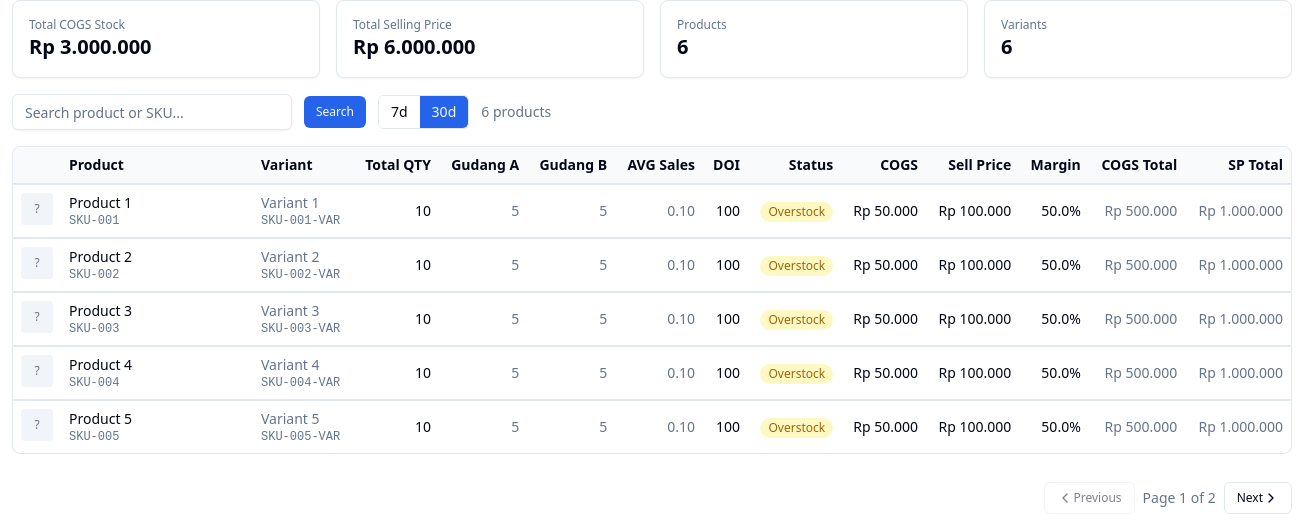
Test case: paginates to page 2 and shows remaining products
Click the button "Next".
click(1258, 498)  # box [1224,482,1292,514]
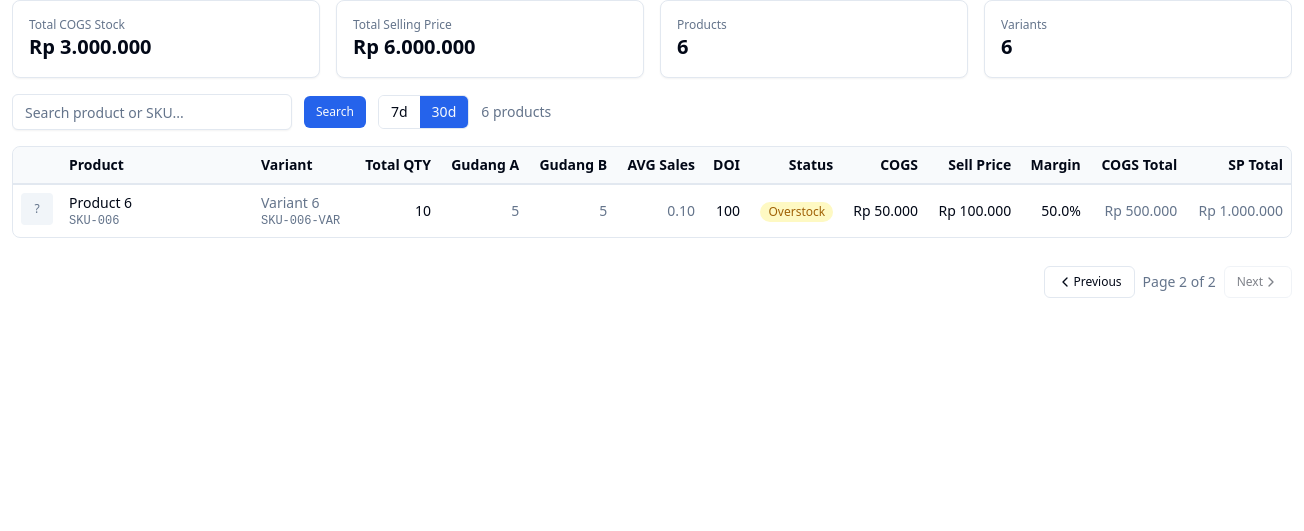
Now the text "Page 2 of 2" is shown, box [1143,272,1216,292]
Now the text "Product 1" is gone
Now the text "Product 6" is shown, box [69,193,132,212]
